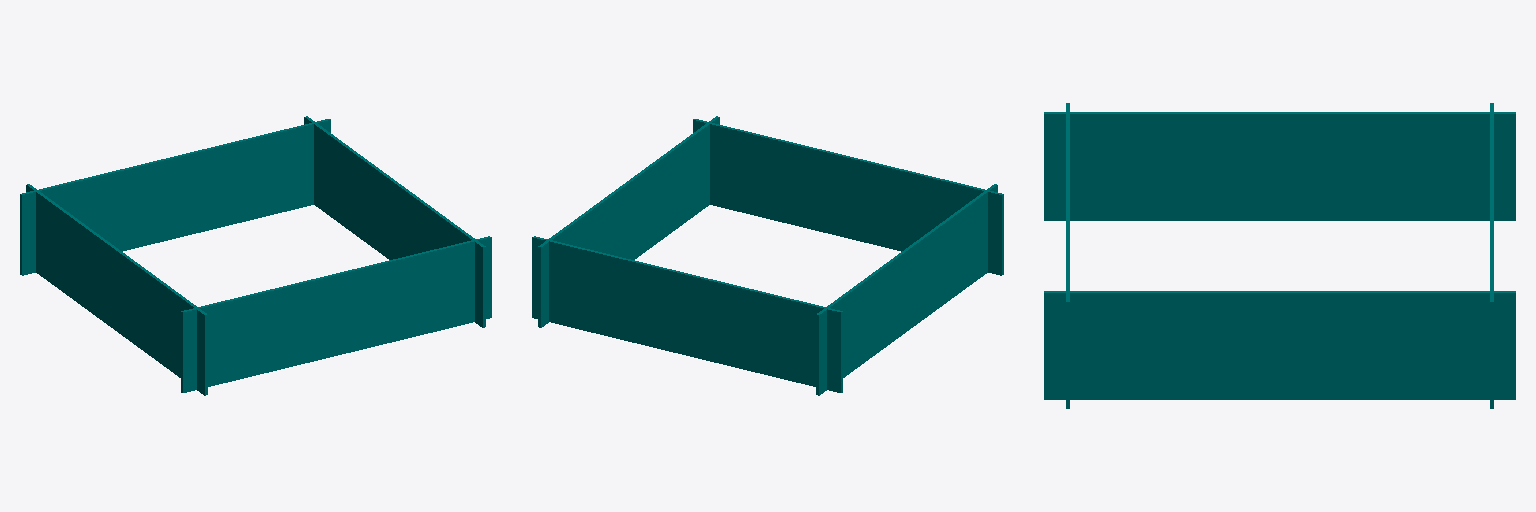
URDF robot description (bowl.urdf):
<?xml version="0.0" ?>
<robot name="bowl.urdf">
  <material name="color">
    <color rgba="0.0 .502 .502 1."/>
  </material>
<!--   <material name="color">
    <color rgba=".55 .27 .1 1."/>
  </material> -->
<!--   <material name="color">
    <color rgba="1. 1. 1. 1."/>
  </material> -->
  <!-- <material name="grey">
    <color rgba=".5 .5 .5 1."/>
  </material> -->

  <link name="world"/>

  <link name="base">
    <inertial>
      <origin rpy="0 0 0" xyz="0.0 0.0 0.0"/>
       <mass value=".1"/>
       <inertia ixx="1" ixy="0" ixz="0" iyy="1" iyz="0" izz="1"/>
    </inertial>
    <visual>
      <!-- right -->
      <origin rpy="0 0 0" xyz="0 -.45 0"/>
      <geometry>
        <box size="1 .01 .25"/>
      </geometry>
      <material name="color"/>
    </visual>
    <visual>
      <!-- left -->
      <origin rpy="0 0 0" xyz="0 .45 0"/>
      <geometry>
        <box size="1 .01 .25"/>
      </geometry>
      <material name="color"/>
    </visual>
    <visual>
      <!-- front -->
      <origin rpy="0 0 0" xyz=".45 0 0"/>
      <geometry>
        <box size=".01 1 .25"/>
      </geometry>
      <material name="color"/>
    </visual>
    <visual>
      <!-- back -->
      <origin rpy="0 0 0" xyz="-.45 0 0"/>
      <geometry>
        <box size=".01 1 .25"/>
      </geometry>
      <material name="color"/>
    </visual>
    <collision>
      <!-- right -->
      <origin rpy="0 0 0" xyz="0 -.45 0"/>
      <geometry>
        <box size="1 .01 .25"/>
      </geometry>
    </collision>
    <collision>
      <!-- left -->
      <origin rpy="0 0 0" xyz="0 .45 0"/>
      <geometry>
        <box size="1 .01 .25"/>
      </geometry>
    </collision>
    <collision>
      <!-- front -->
      <origin rpy="0 0 0" xyz=".45 0 0"/>
      <geometry>
        <box size=".01 1 .25"/>
      </geometry>
    </collision>
    <collision>
      <!-- back -->
      <origin rpy="0 0 0" xyz="-.45 0 0"/>
      <geometry>
        <box size=".01 1 .25"/>
      </geometry>
    </collision>
  </link>

  <joint name="base_joint" type="fixed">
    <parent link="world"/>
    <child link="base"/>
  </joint>

</robot>

--- Render facts (derived) ---
The picture shows the robot from 3 angles, left to right: view 1: azimuth 30°, elevation 25°; view 2: azimuth 150°, elevation 25°; view 3: azimuth 270°, elevation 25°; orthographic projection.
Robot: bowl.urdf — 2 links, 1 joints (1 fixed); root link world; default pose: all joints at 0.
Links seen in each view (by area): view 1: base; view 2: base; view 3: base.
Boxes of the visible links, box(x1,y1,x2,y2) form: base: box(20, 116, 491, 395); base: box(532, 116, 1003, 395); base: box(1044, 103, 1515, 408).
Size in the robot's own frame: 1 by 1 by 0.25 metres.
Geometry: primitives only (box / cylinder / sphere), no mesh files.